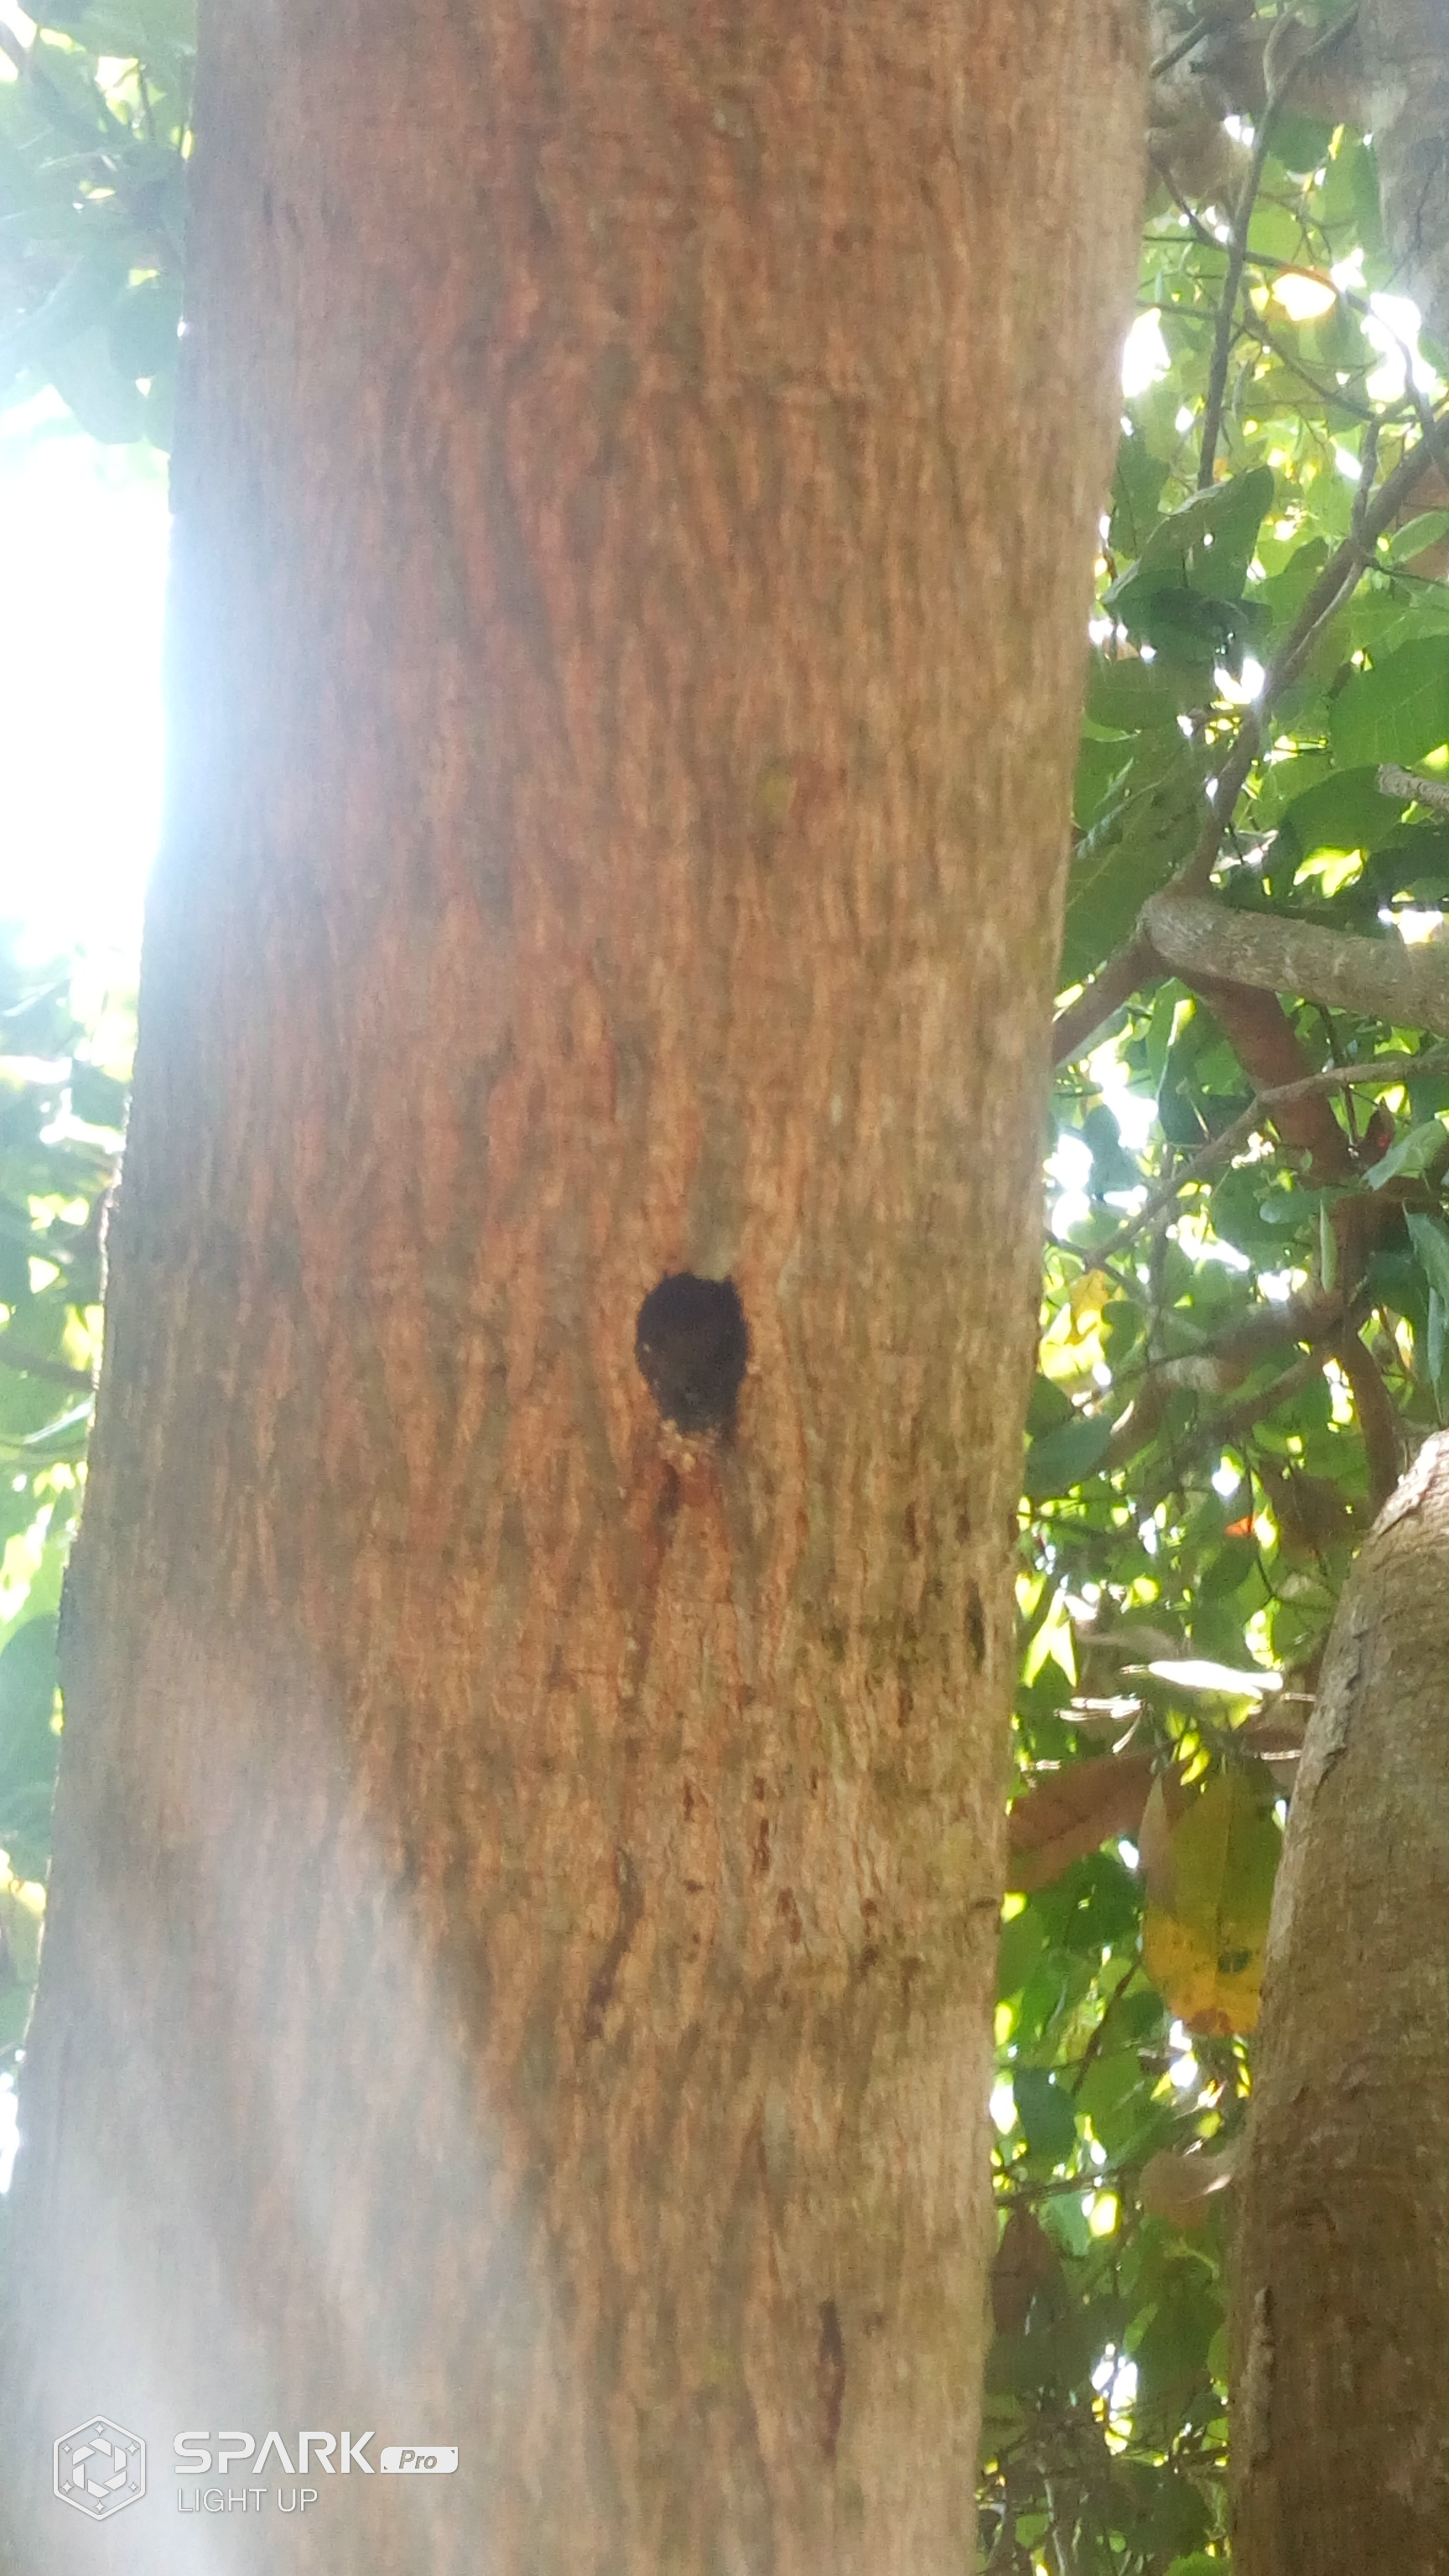Apate terebrans: (573, 1235, 892, 1523)
